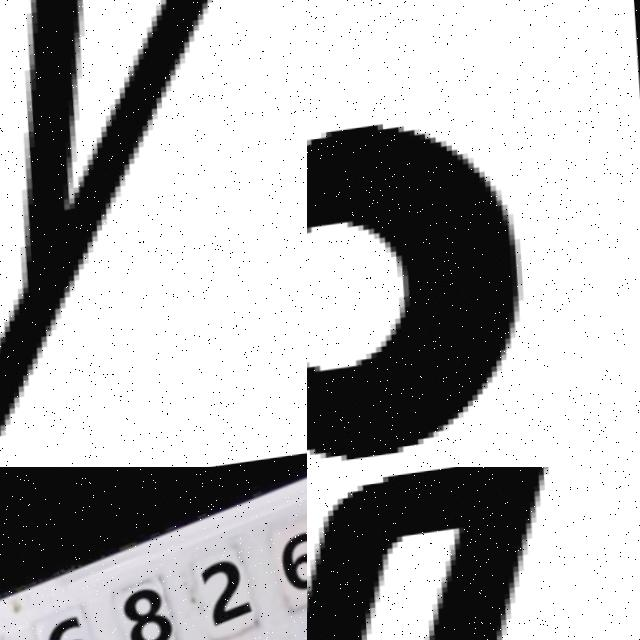2: (182, 542, 258, 640)
6: (260, 518, 307, 617), (26, 602, 103, 640)
8: (102, 570, 181, 640)
B: (307, 129, 524, 467)
D: (307, 467, 637, 640)
Y: (0, 0, 296, 447)
